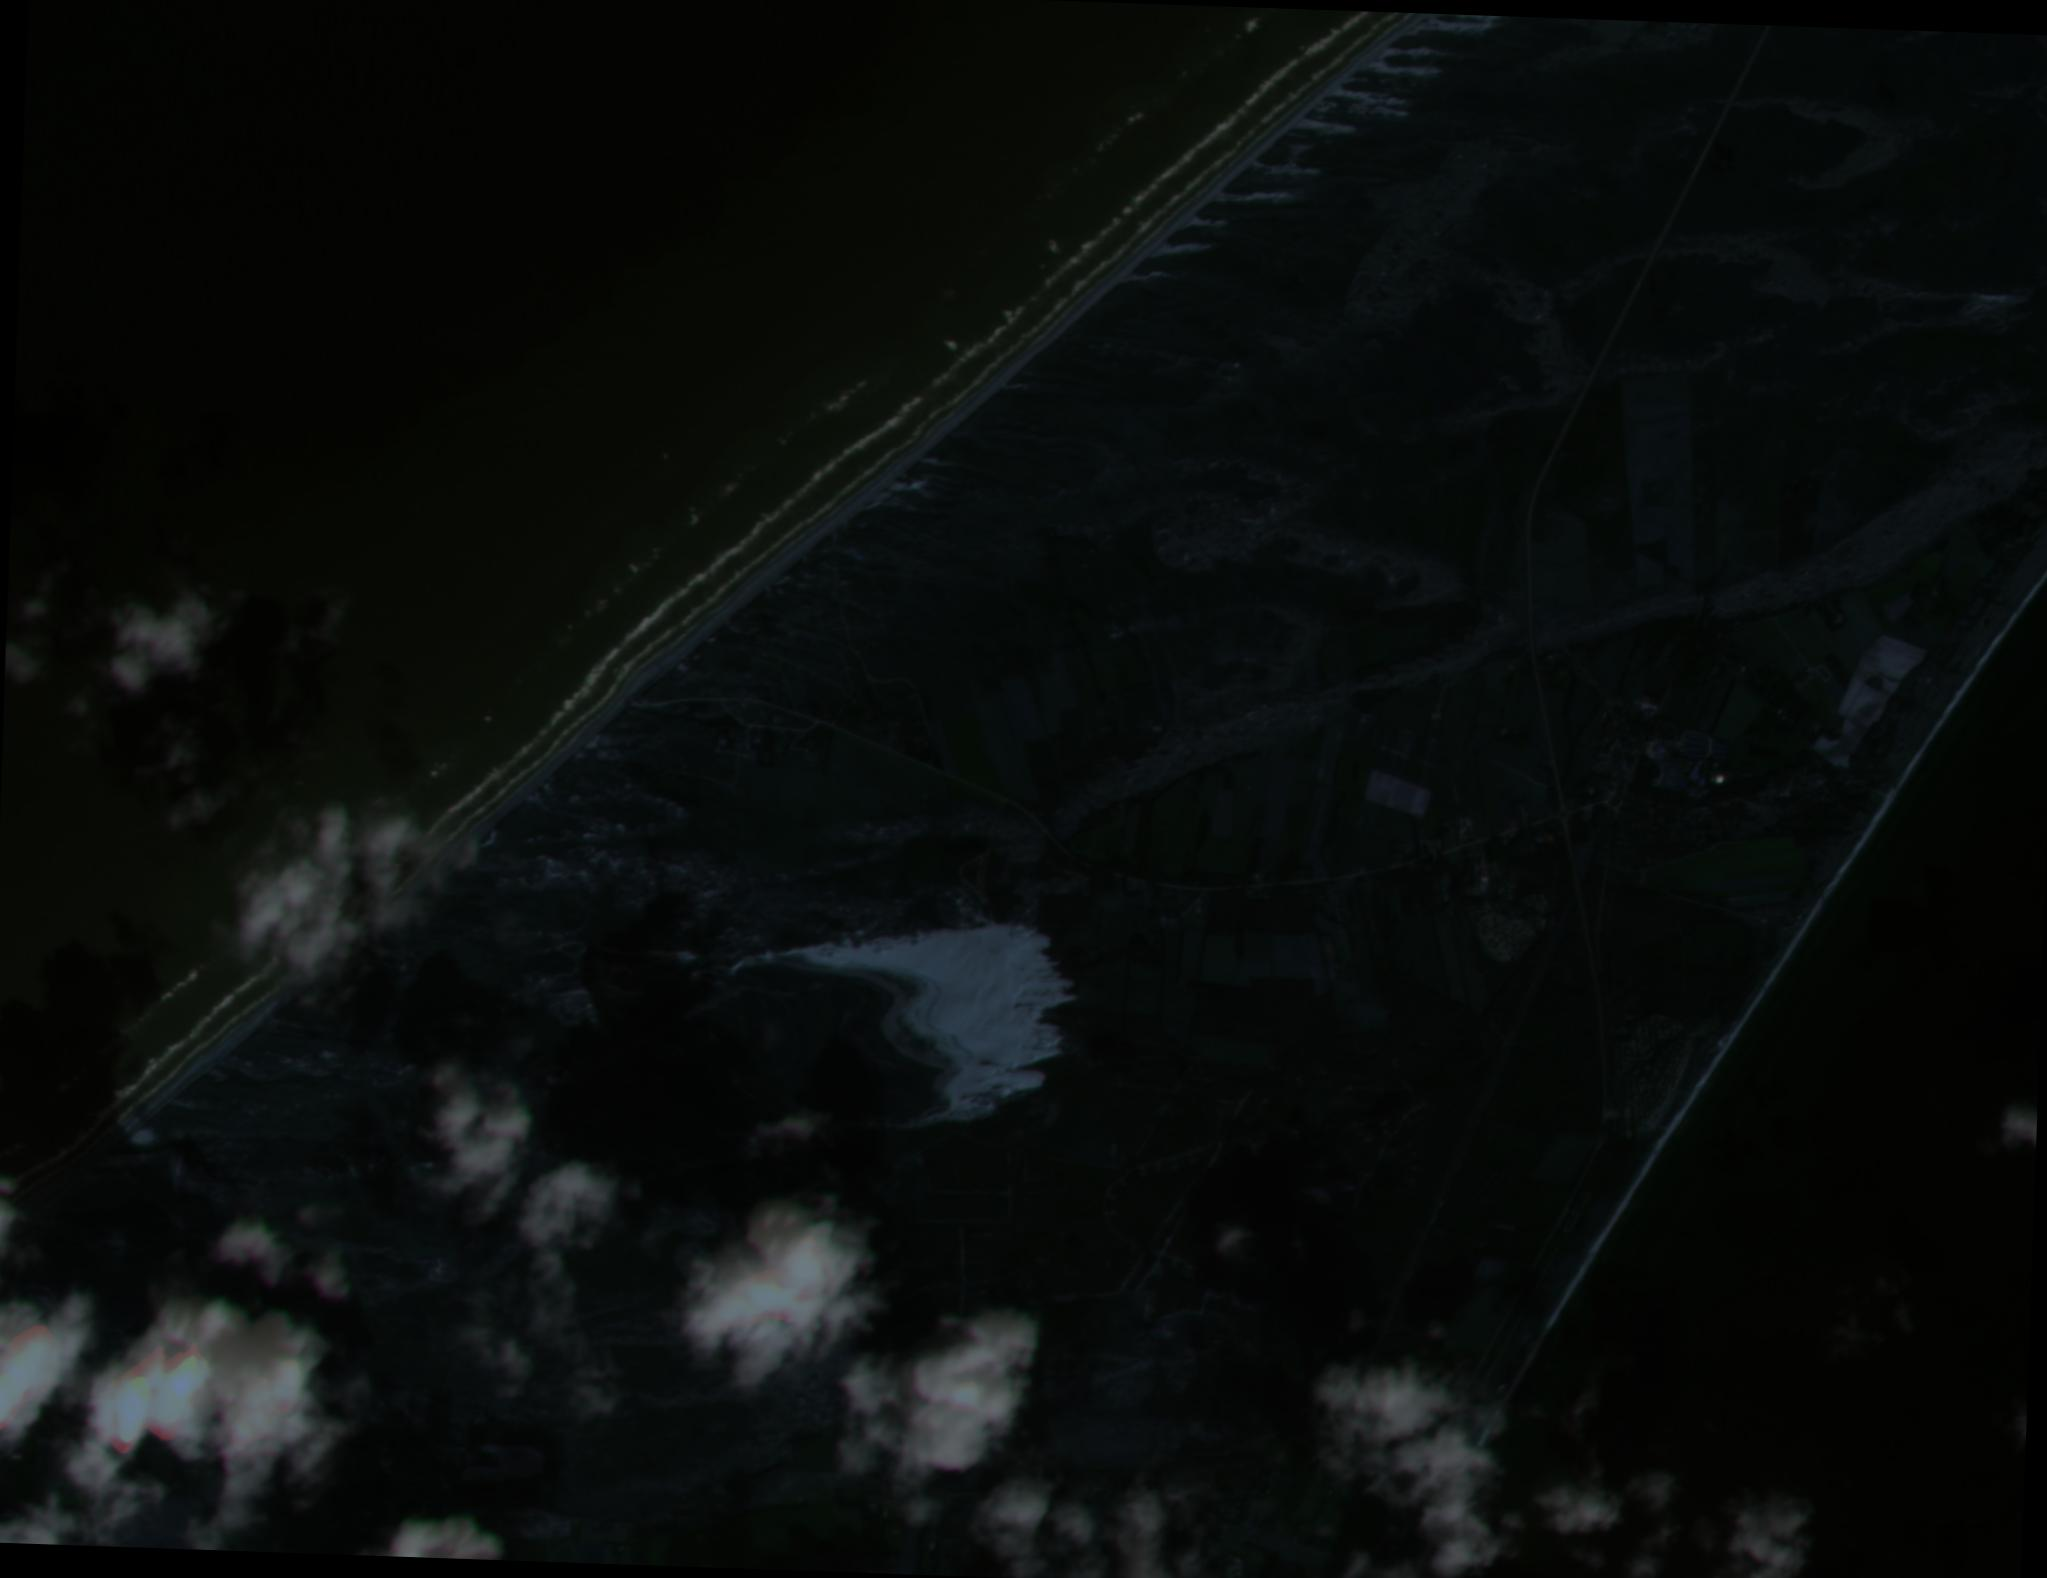ship: (108, 587, 224, 695), (28, 879, 229, 895)
